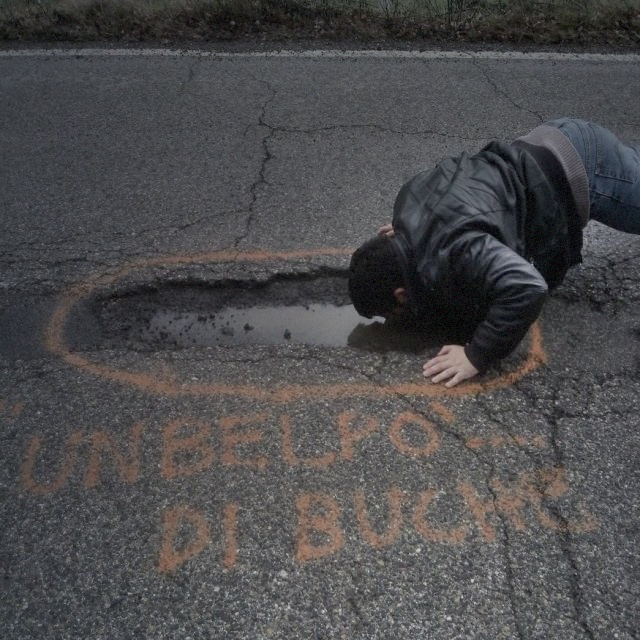pothole: (74, 248, 346, 384)
